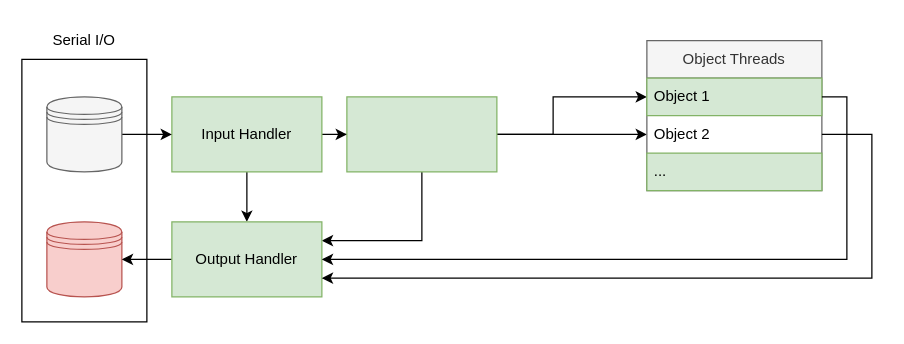
This 904x344 diagram has some shape labels left out. Each missing label, with the centre of its shape:
"Data In" belongs at (84,134).
"Data Out" belongs at (84,259).
"Object Manager" belongs at (421,134).
